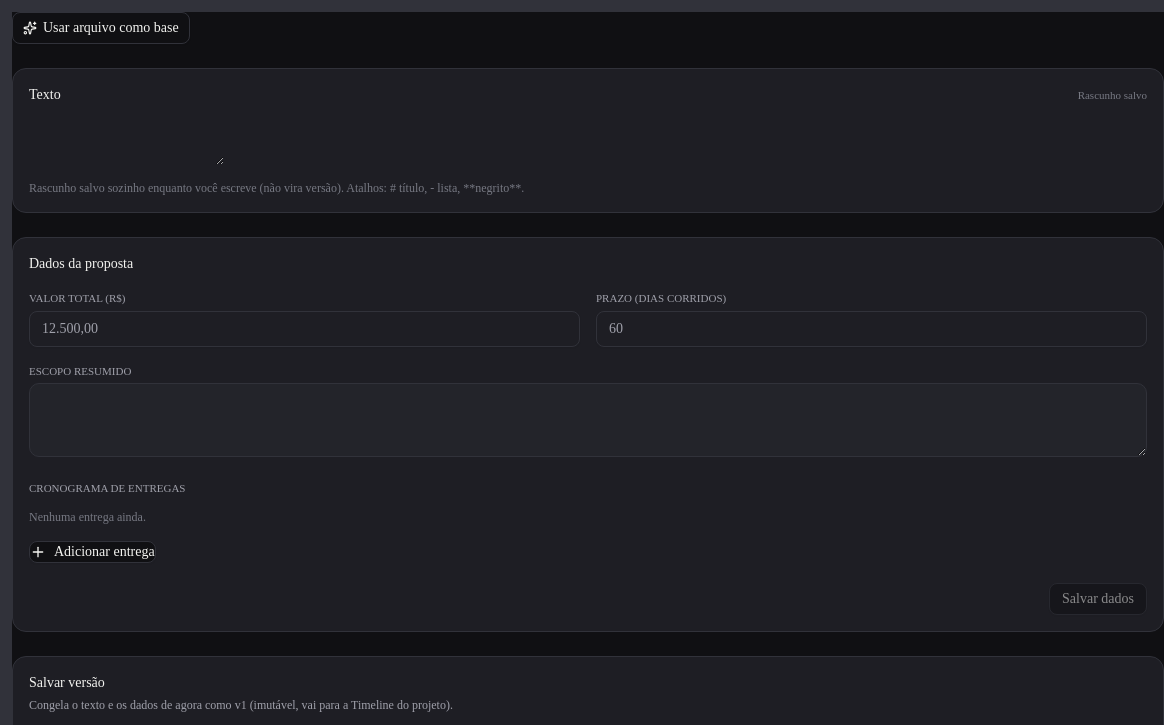
Test: PainelProposta › manter os meus com dados alterados aqui: a escolha avisa e grava texto e dados por cima
Type "30.000,00" into the field with placeholder "12.500,00".
click(304, 328); type("30.000,00")  # box [29, 310, 580, 346]
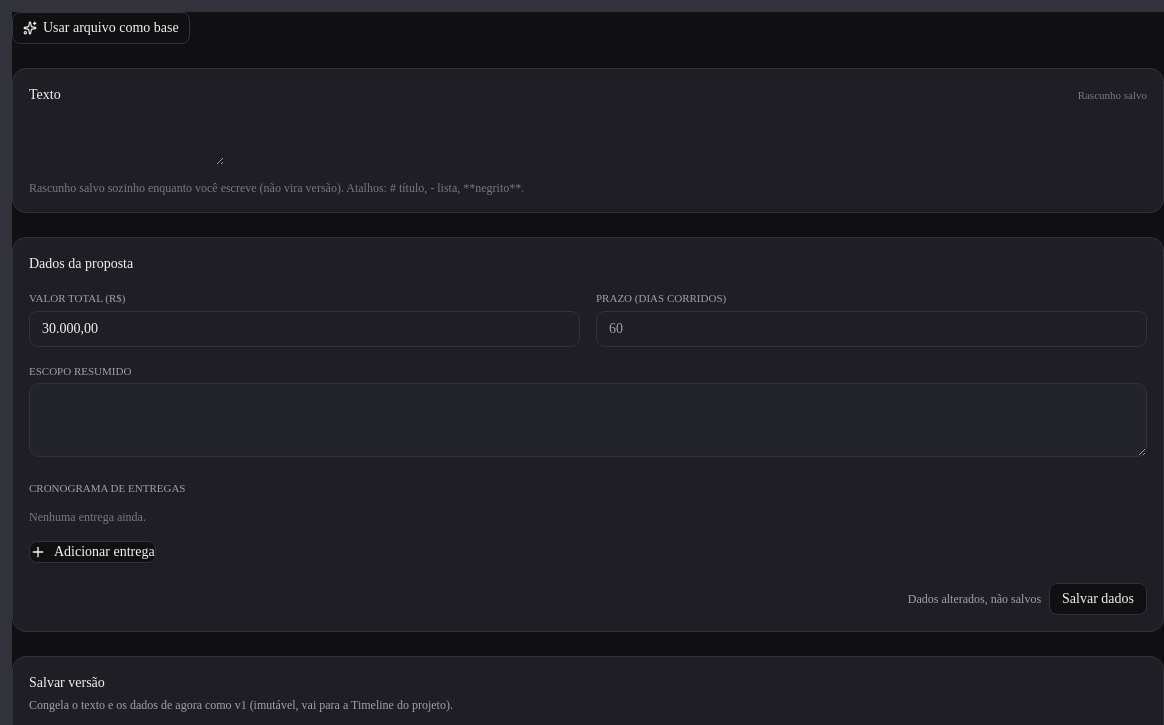
Type "meu" into the text box named "texto".
click(126, 141); type("meu")  # box [29, 117, 224, 165]
Wait 1500 ms
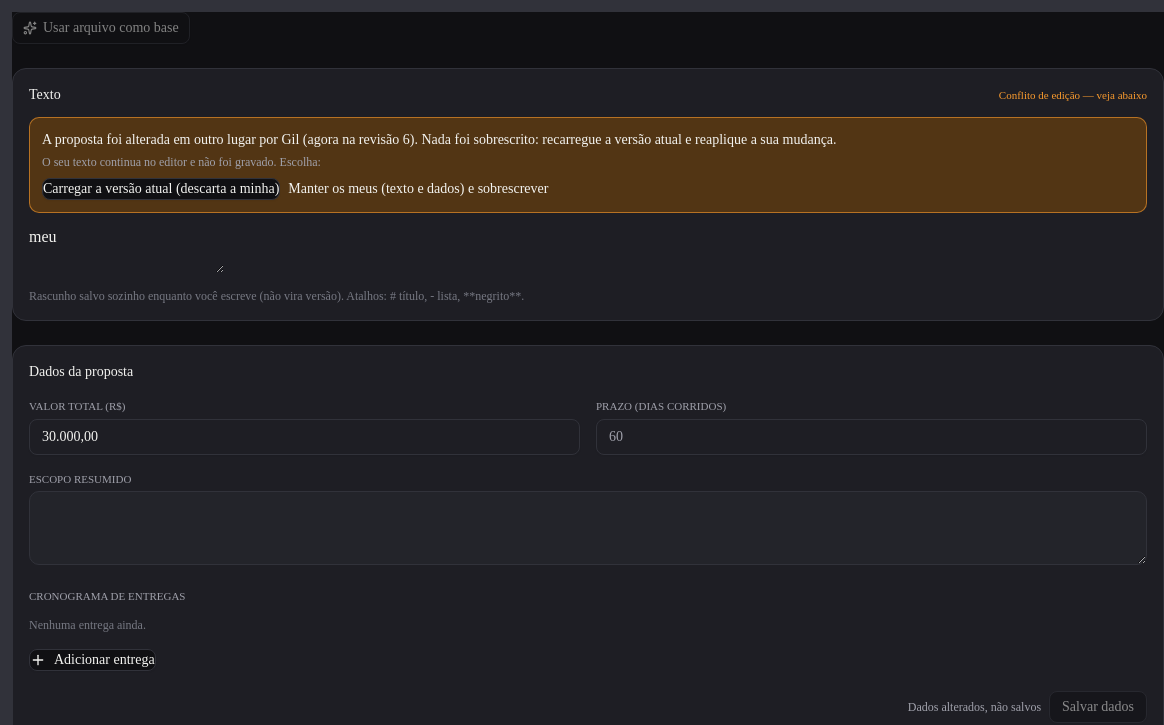
Click the button "Manter os meus (texto e dados) e sobrescrever".
click(418, 189)  # box [288, 178, 548, 200]
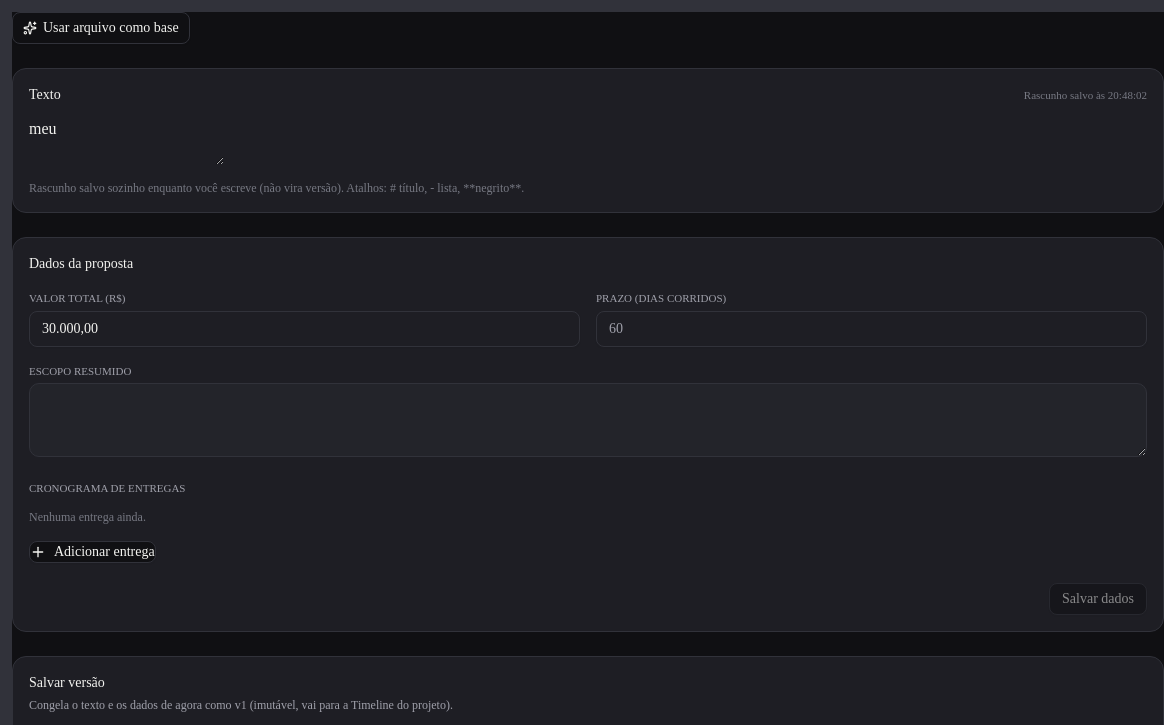
Result: the text "Dados alterados, não salvos" is gone
